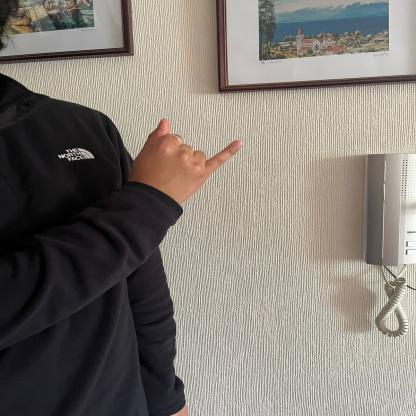J: (131, 114, 249, 204)
